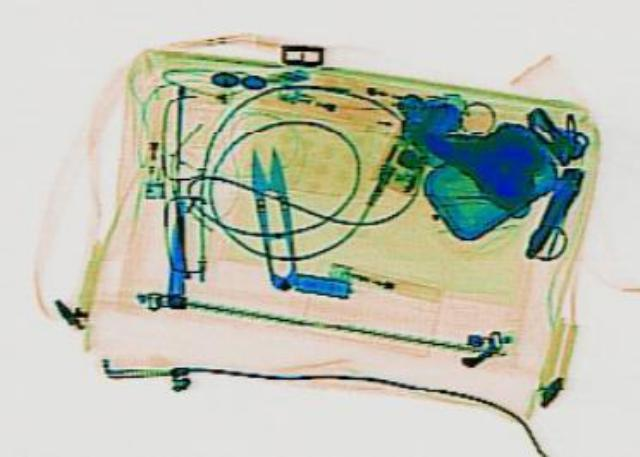Scissors: (242, 145, 300, 290)
